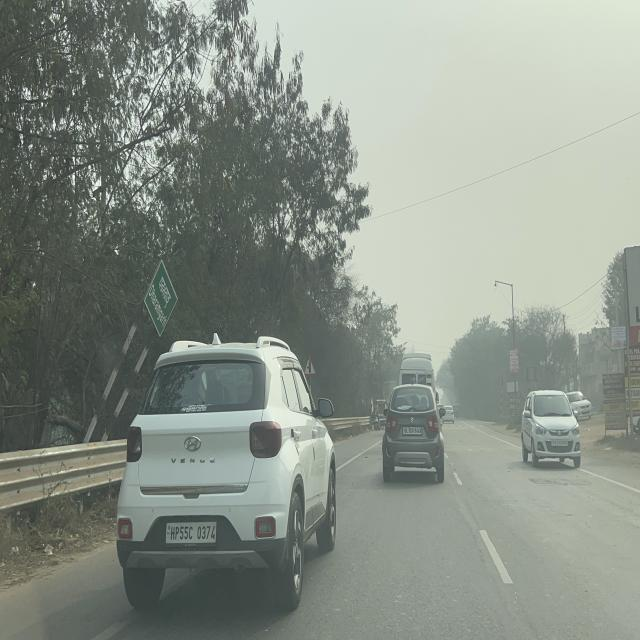GENERAL: (144, 260, 178, 337)
SIDE_ROAD_LEFT: (302, 352, 318, 376)
